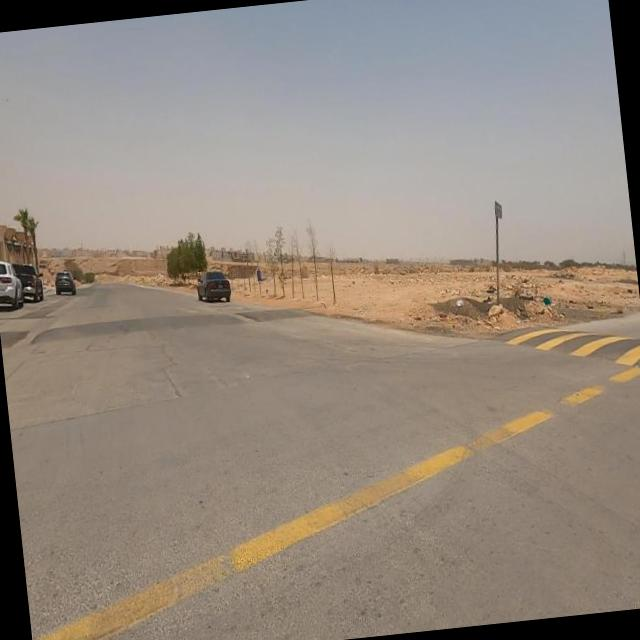debris: (516, 266, 583, 334), (431, 266, 492, 336)
